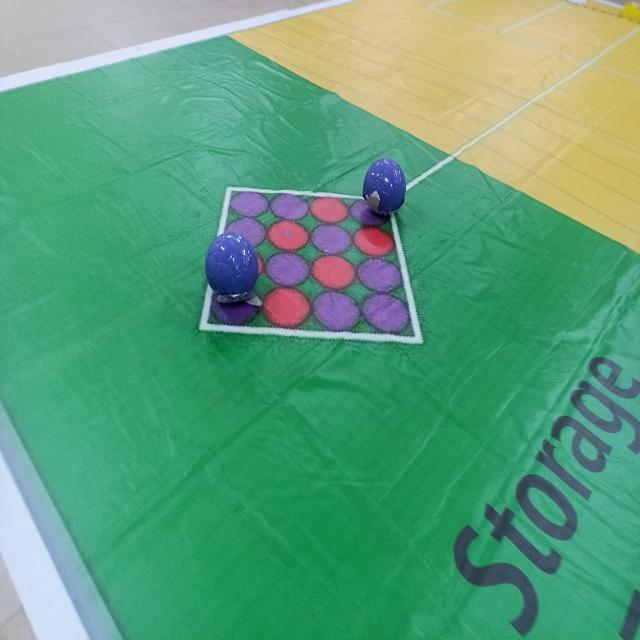purple_ball: (204, 233, 262, 304), (360, 150, 410, 223)
